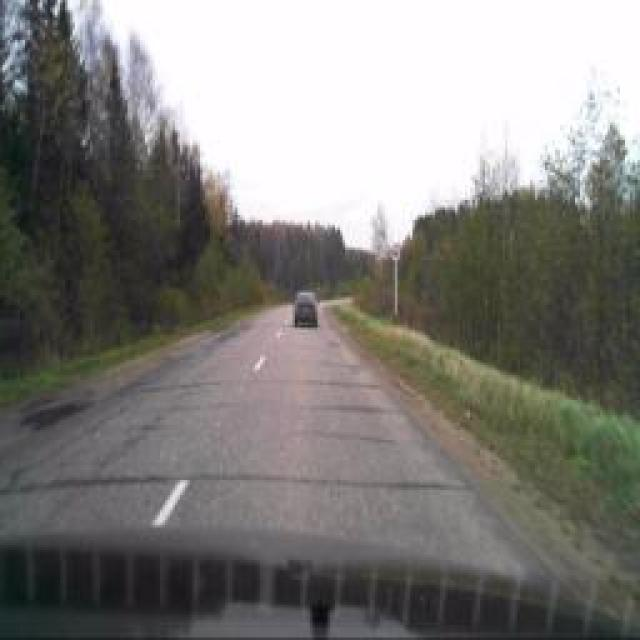sign: (389, 242, 401, 262)
